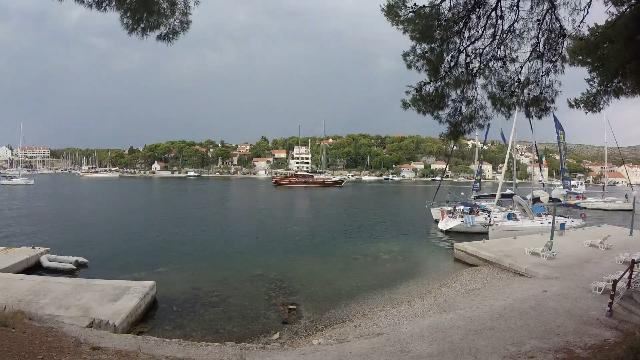Freighter: (267, 167, 355, 191)
Sailboat: (1, 169, 42, 189)
